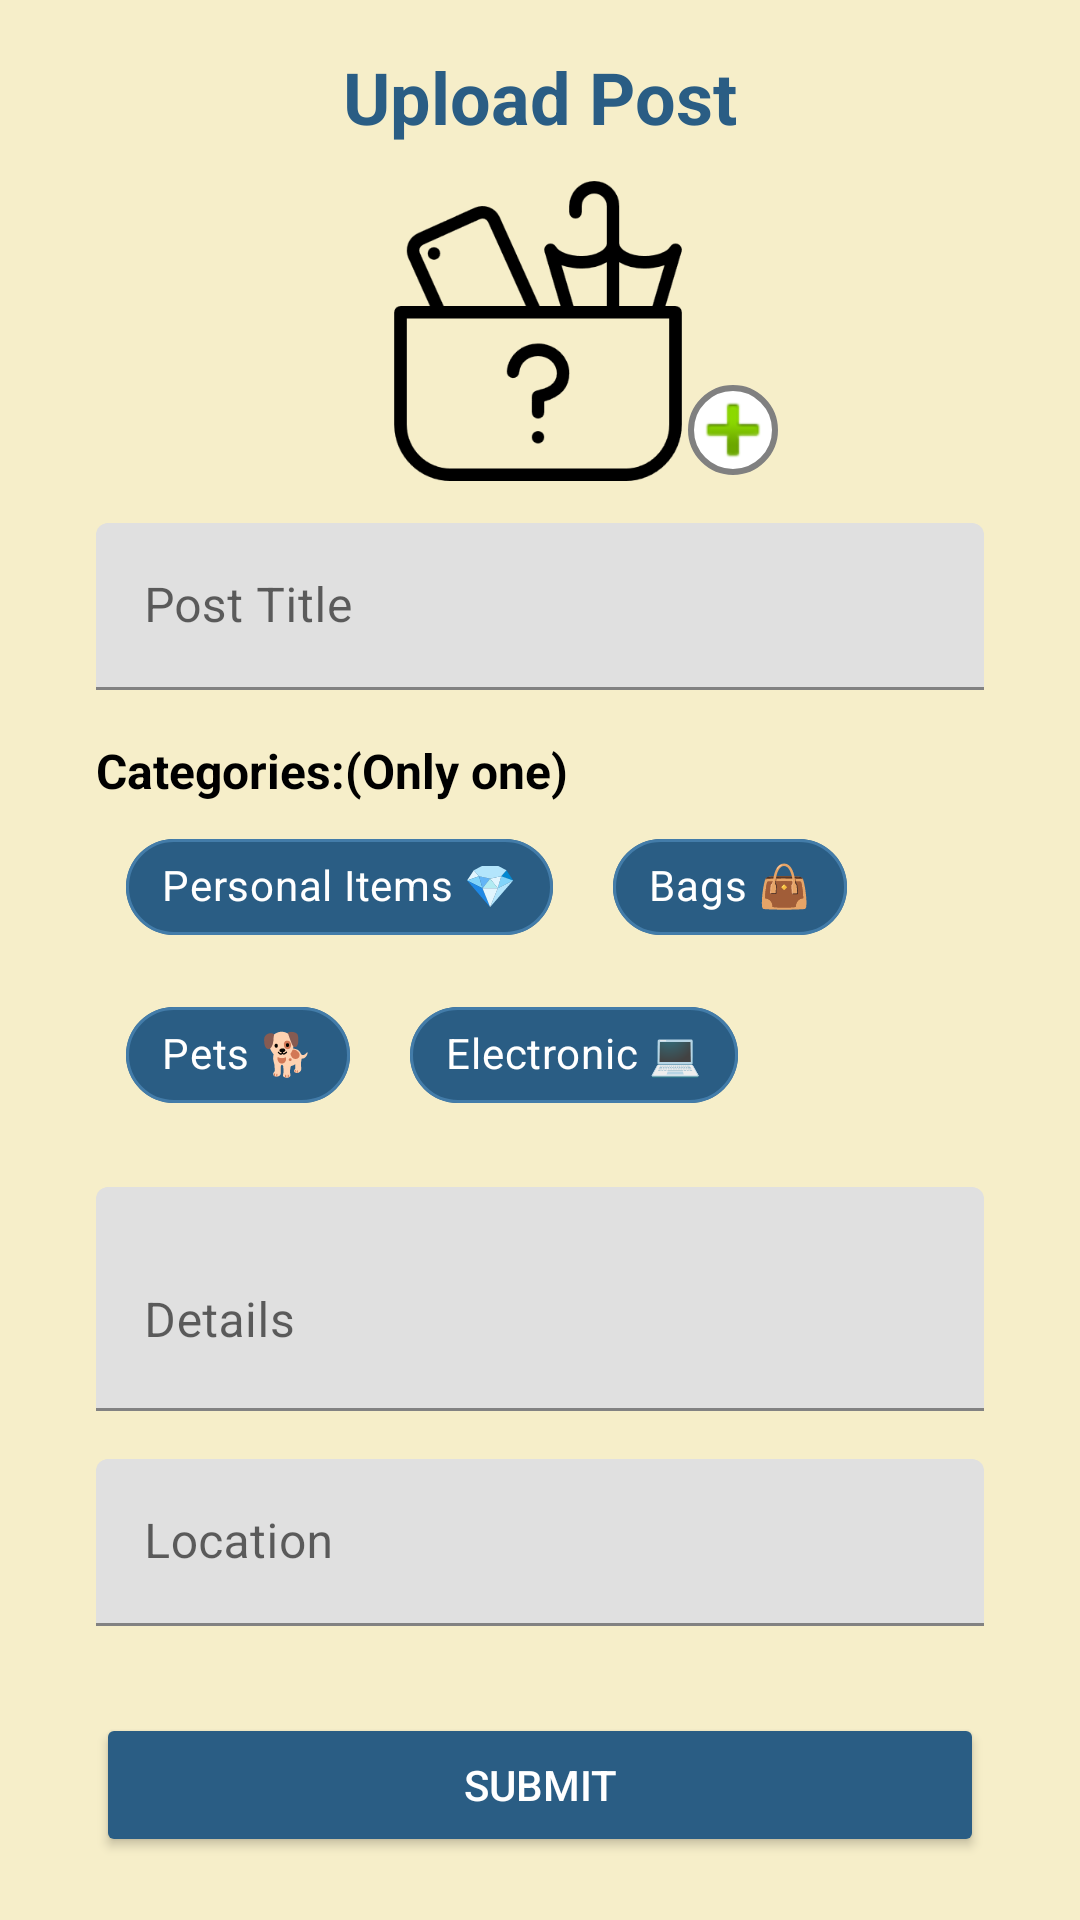

Screen size 1080px x 1920px. Icon name, then its center in pixels as [x,y]:
add: [733,430]
lost item: [538,331]
